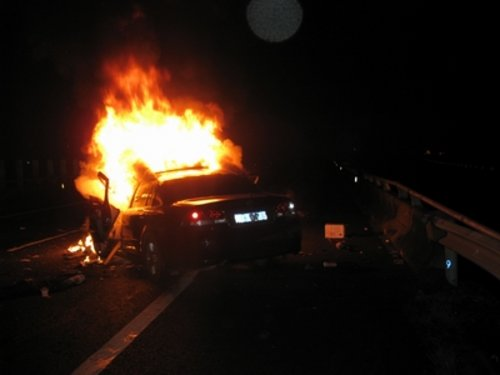fire: (75, 65, 239, 199)
